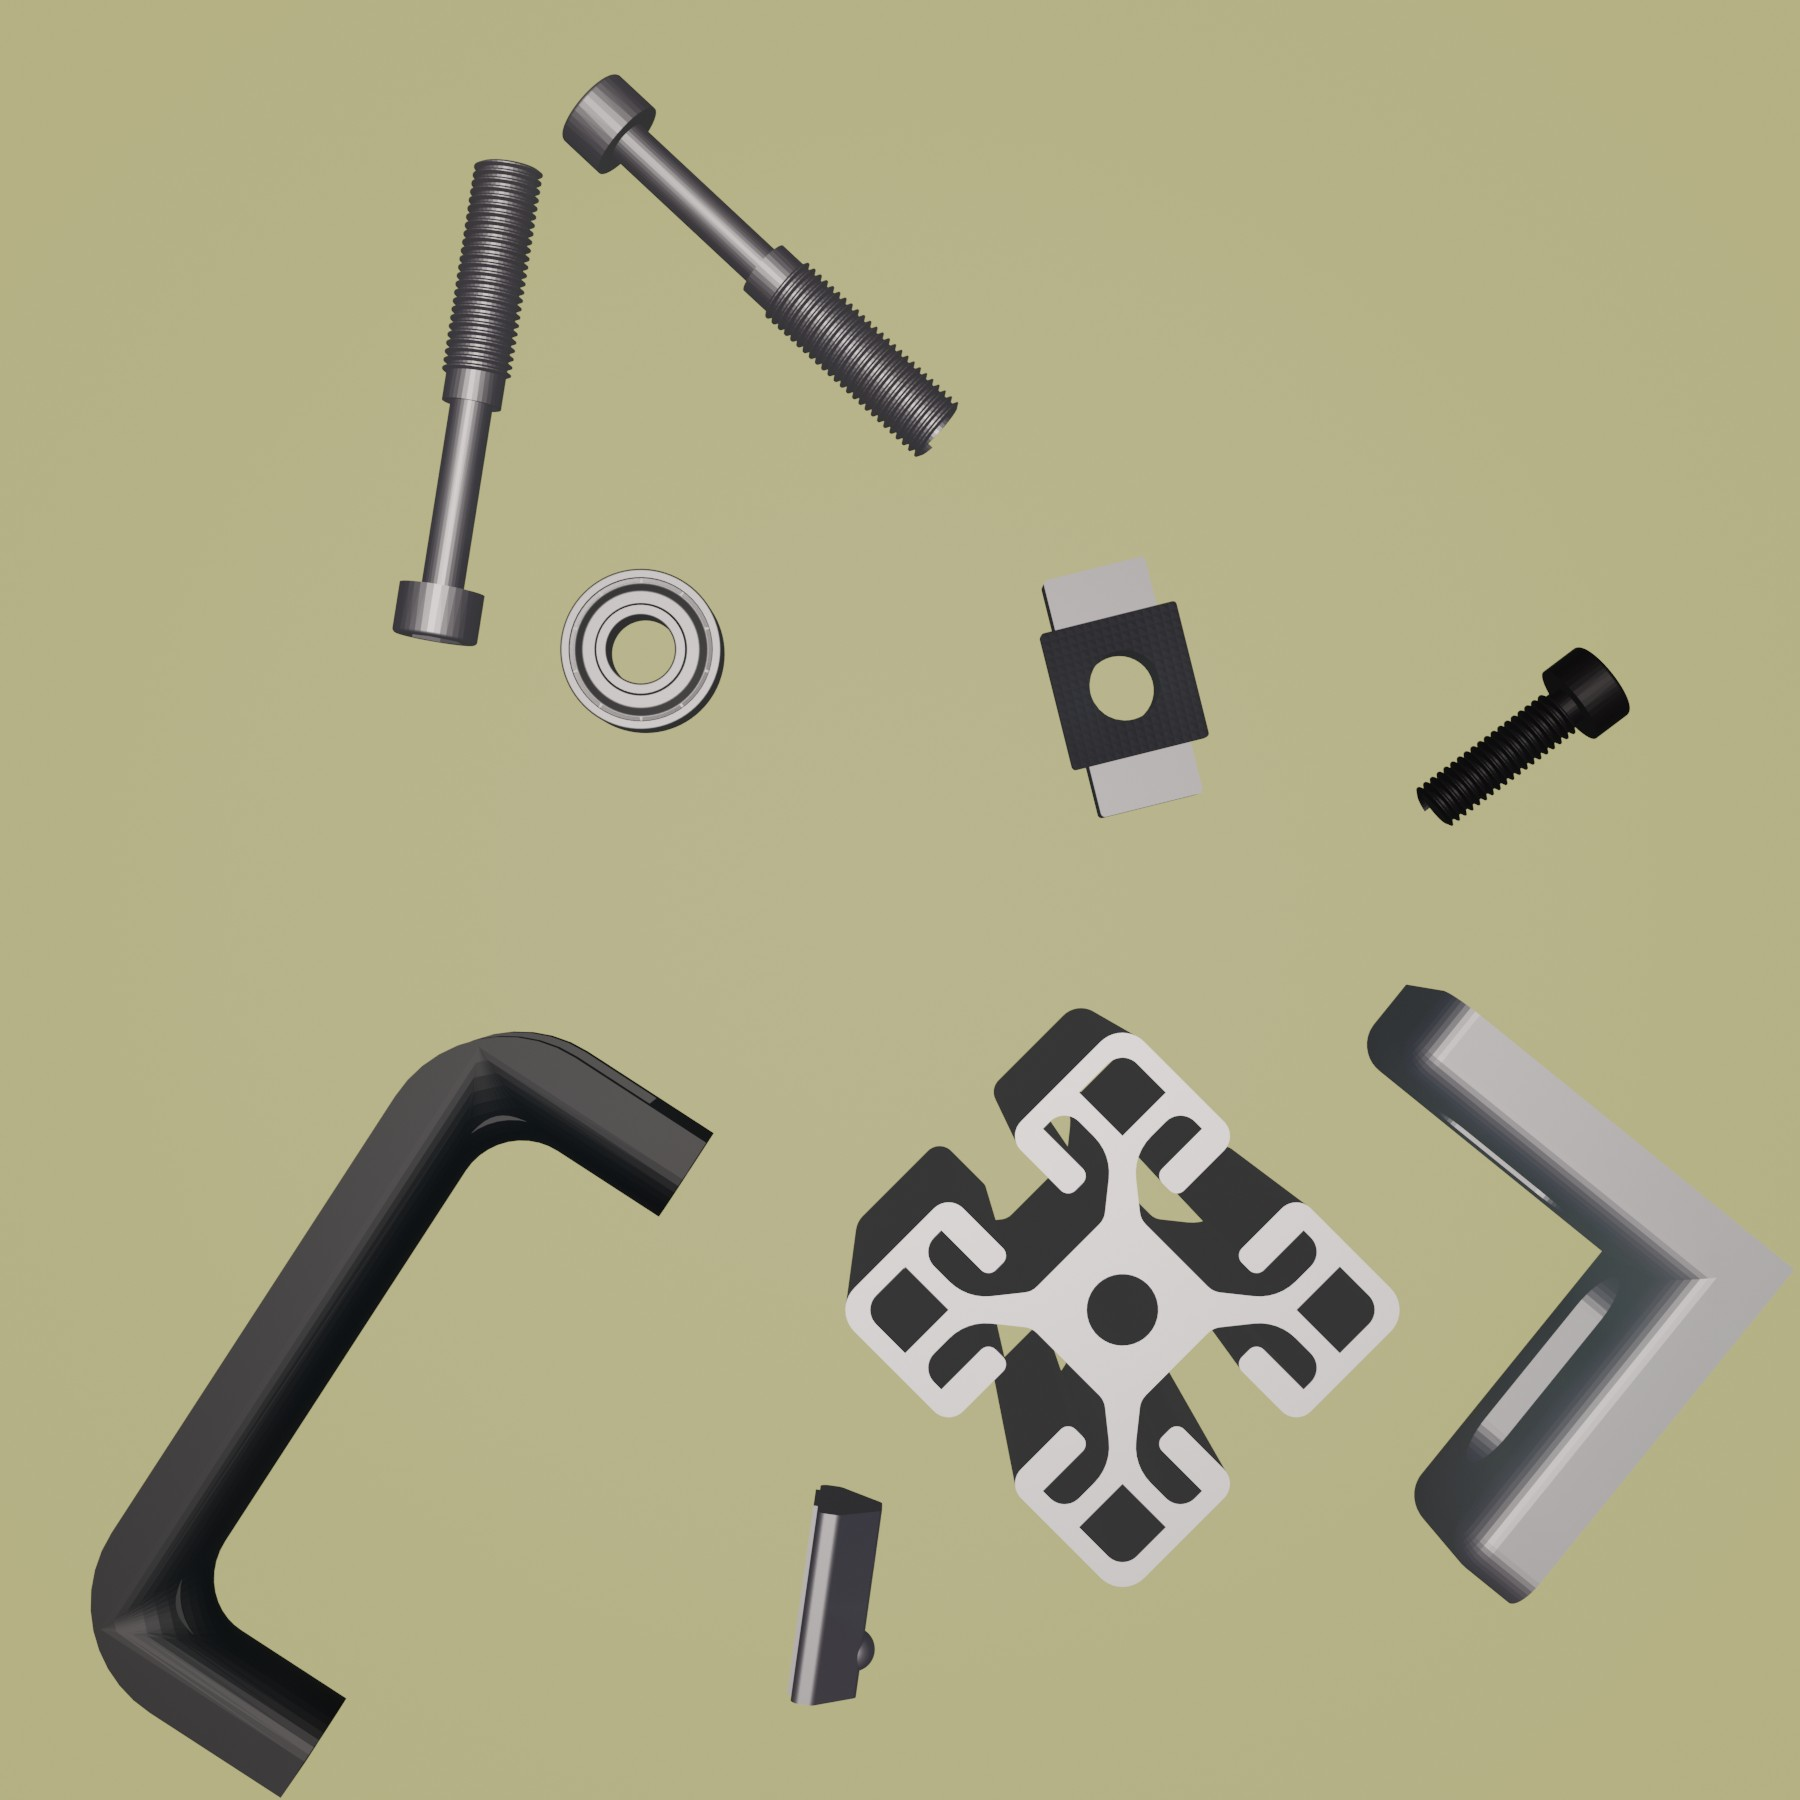Aluminium Extension: (839, 1007, 1401, 1592)
Ball Bearing: (559, 569, 729, 735)
Multiwinkel: (1362, 982, 1792, 1607)
Pull Handle: (89, 1029, 717, 1800)
Shoulder Socket Head Cap Screw: (559, 69, 961, 462), (391, 153, 546, 649)
Socket Head Cap Screw: (1411, 645, 1634, 827)
T Nut Square: (1035, 564, 1215, 824)
T Spring Nut: (785, 1480, 885, 1709)
